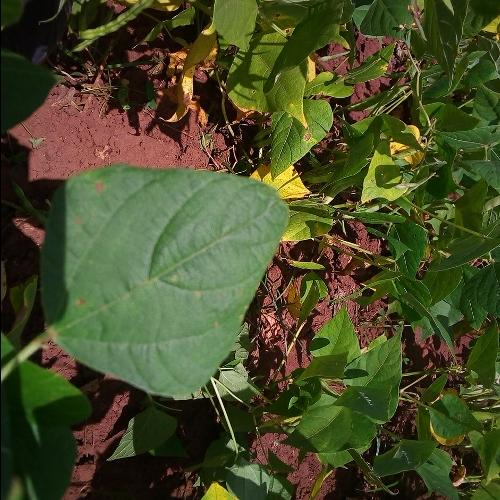hawar: (152, 252, 226, 336), (84, 169, 116, 200), (70, 282, 90, 314)
